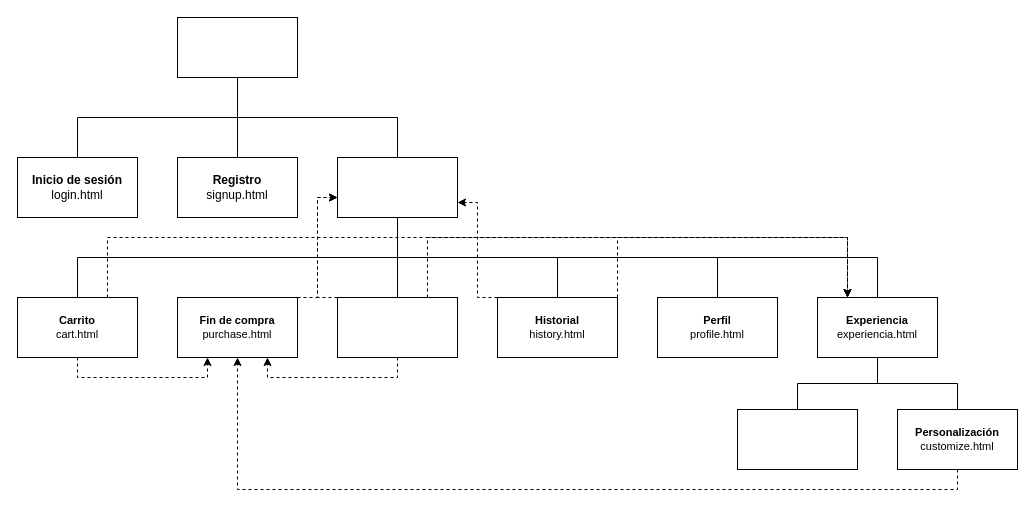
Some shapes in this 1035 by 515 pixel diagram are drawn without their labels. Each missing label, with the centre of its shape:
"Edición edit.html" goes at (797,439).
"Favoritos favourites.html" goes at (397,327).
"Home home.html" goes at (397,187).
"Landing page index.html" goes at (237,47).
